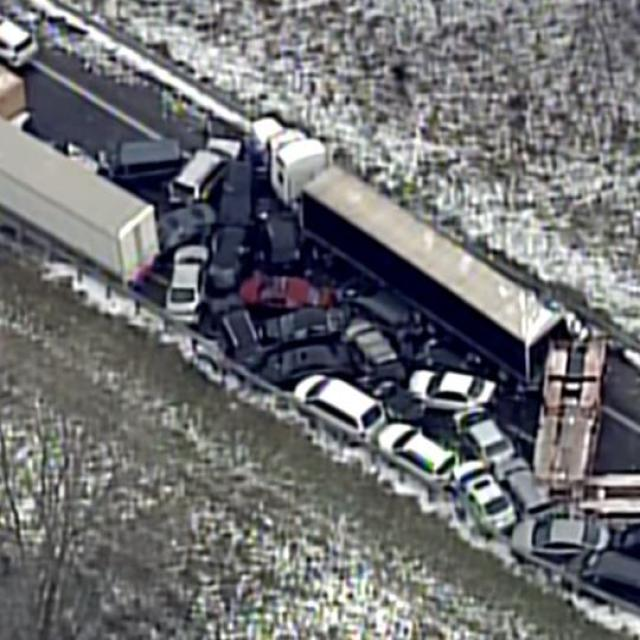traffic_incident: (173, 103, 616, 491)
